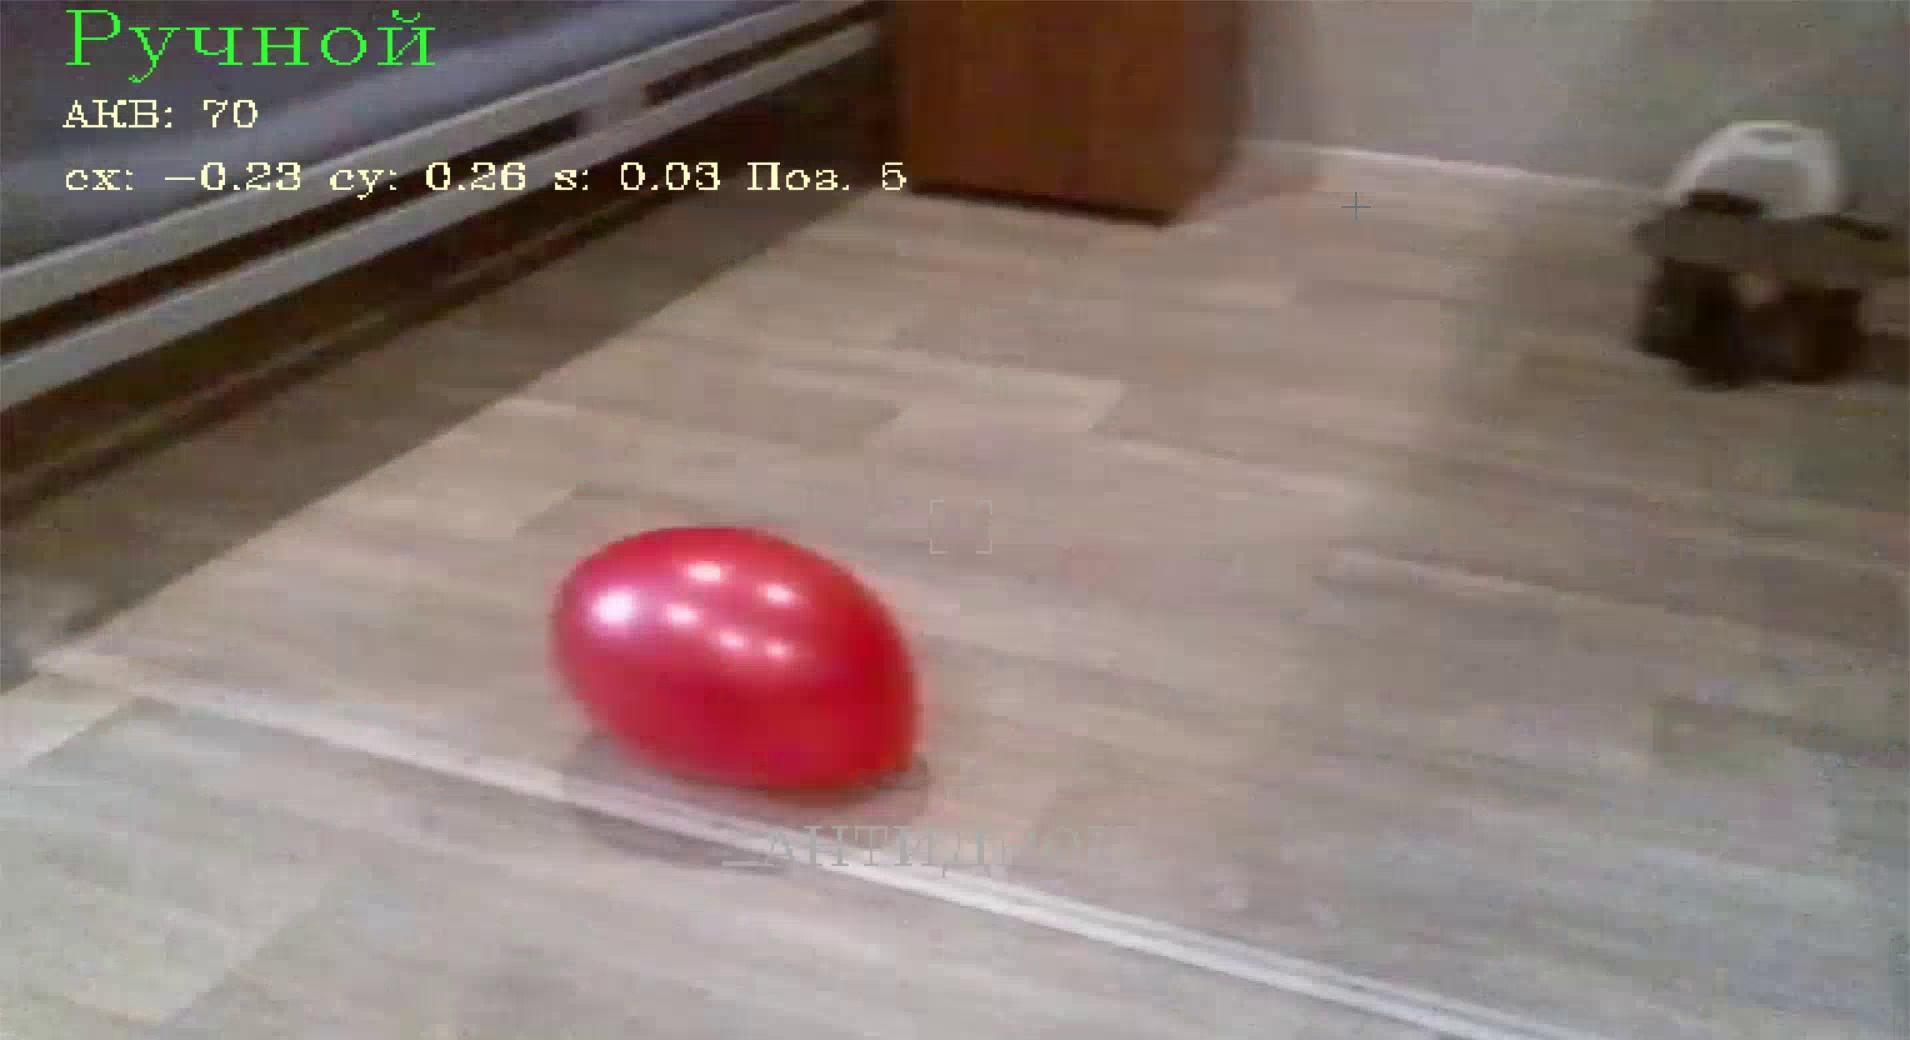red: (552, 520, 919, 807)
